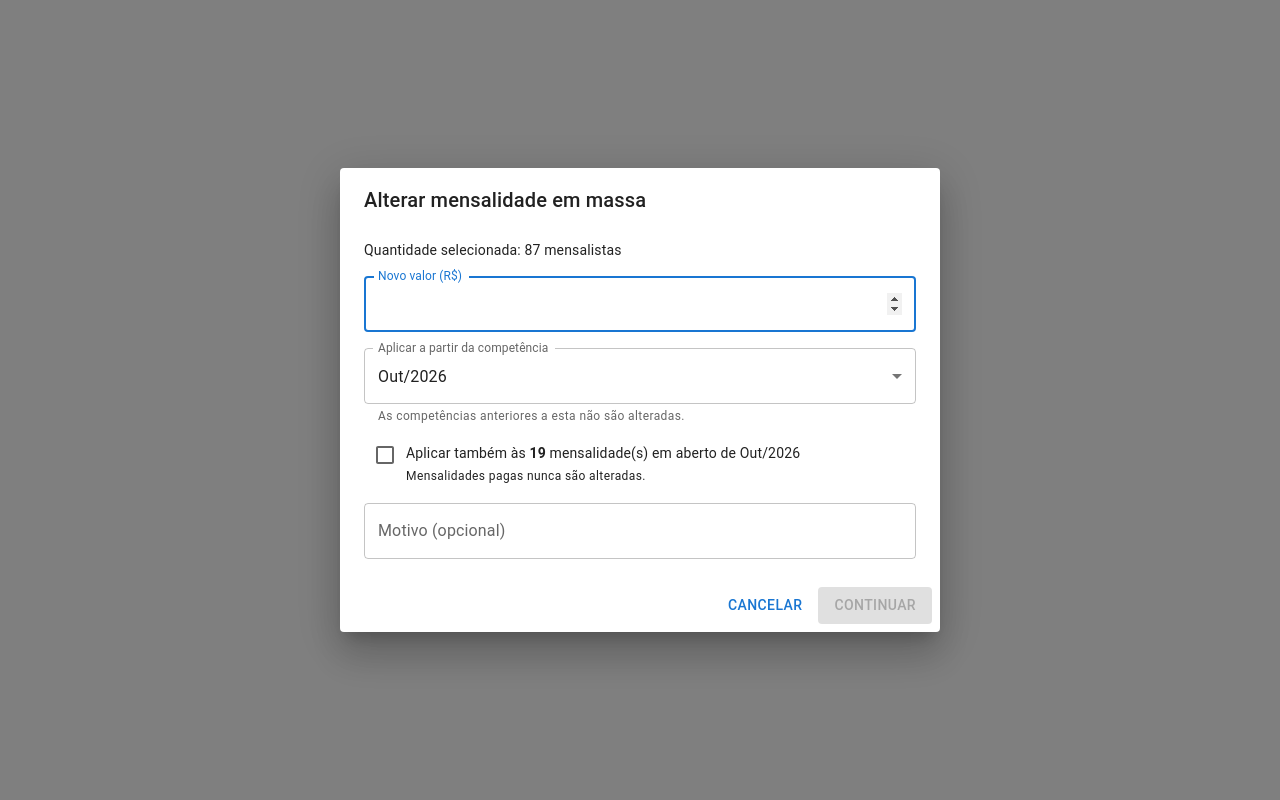
Test: aplicar às mensalidades em aberto › marcada, avisa o que fica de fora e por quê
This screenshot has width=1280, height=800.
Click the checkbox labelled "Aplicar também às". click: [587, 463]
box: [373, 443, 800, 483]
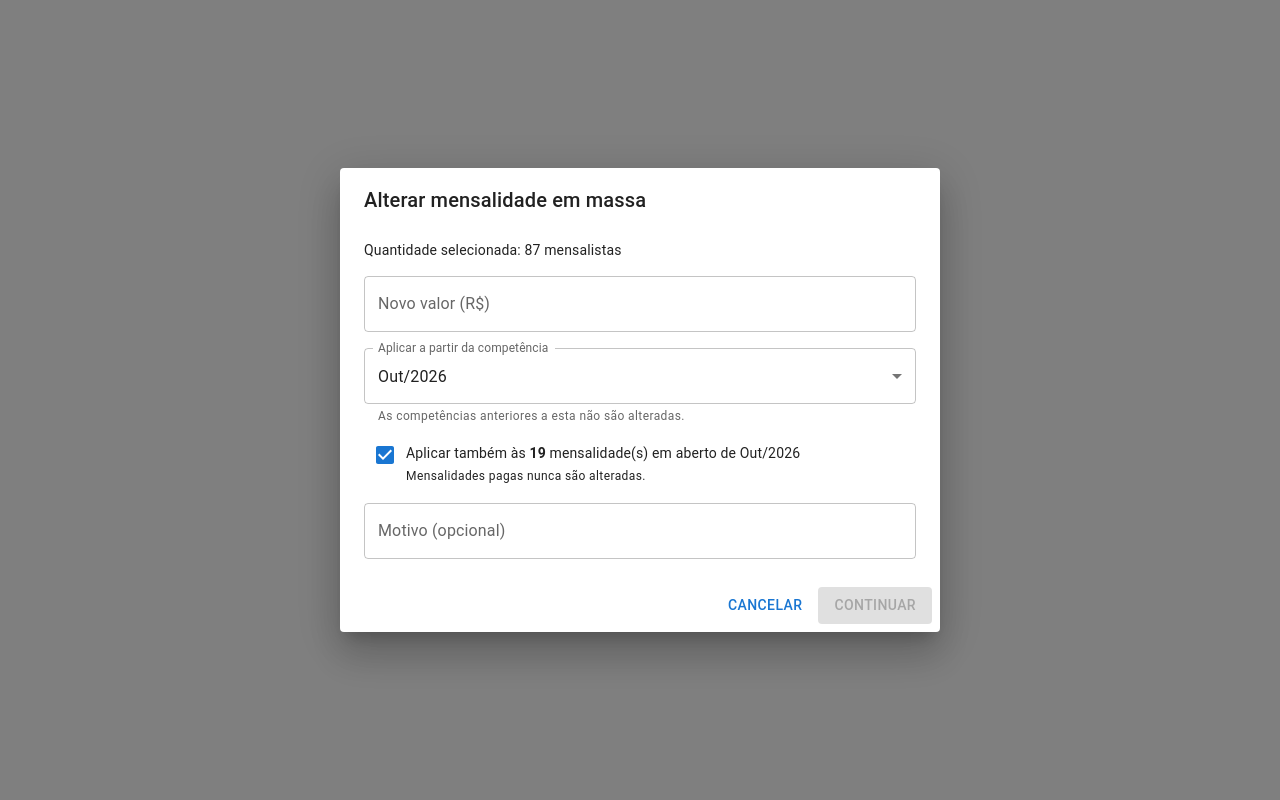
Type "90" into the number field labelled "Novo valor (R$)". click: [640, 304]
box: [364, 276, 916, 332]
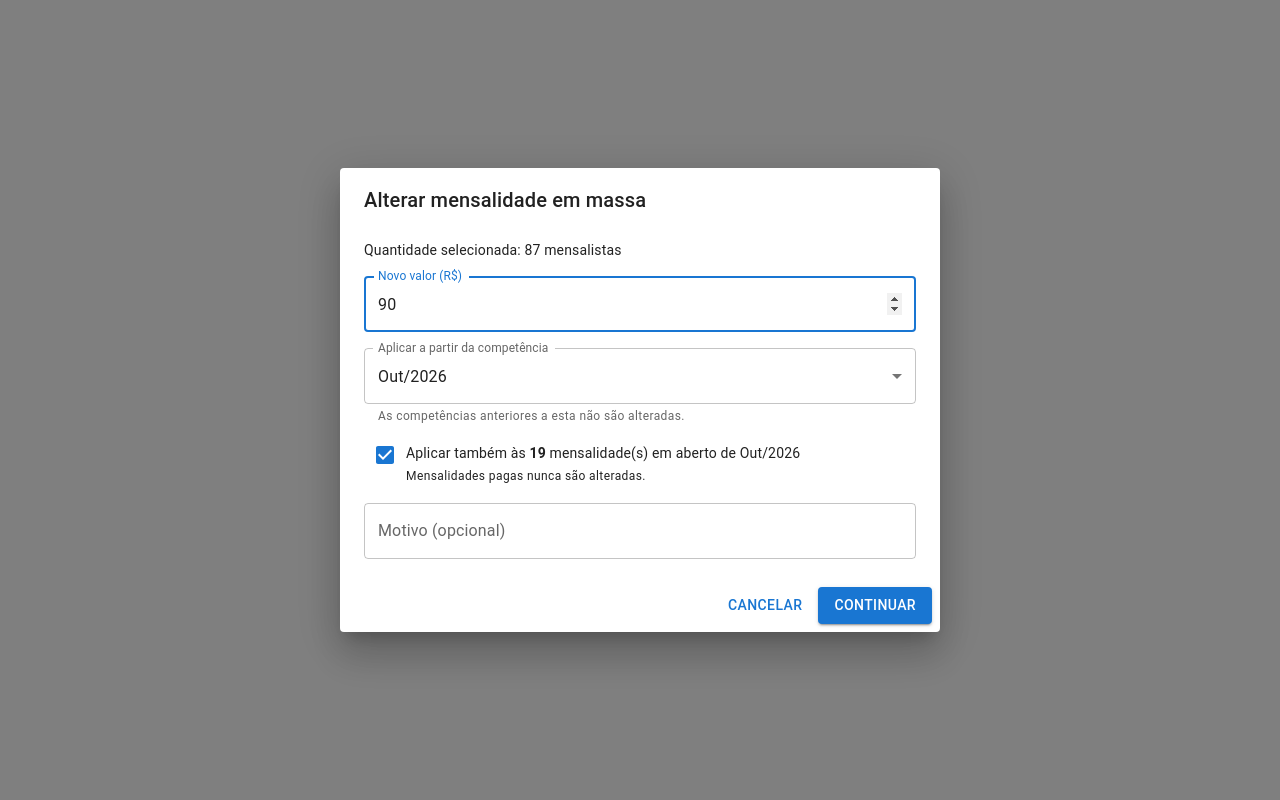
Click the button "Continuar". click: [875, 605]
box: [818, 587, 932, 624]
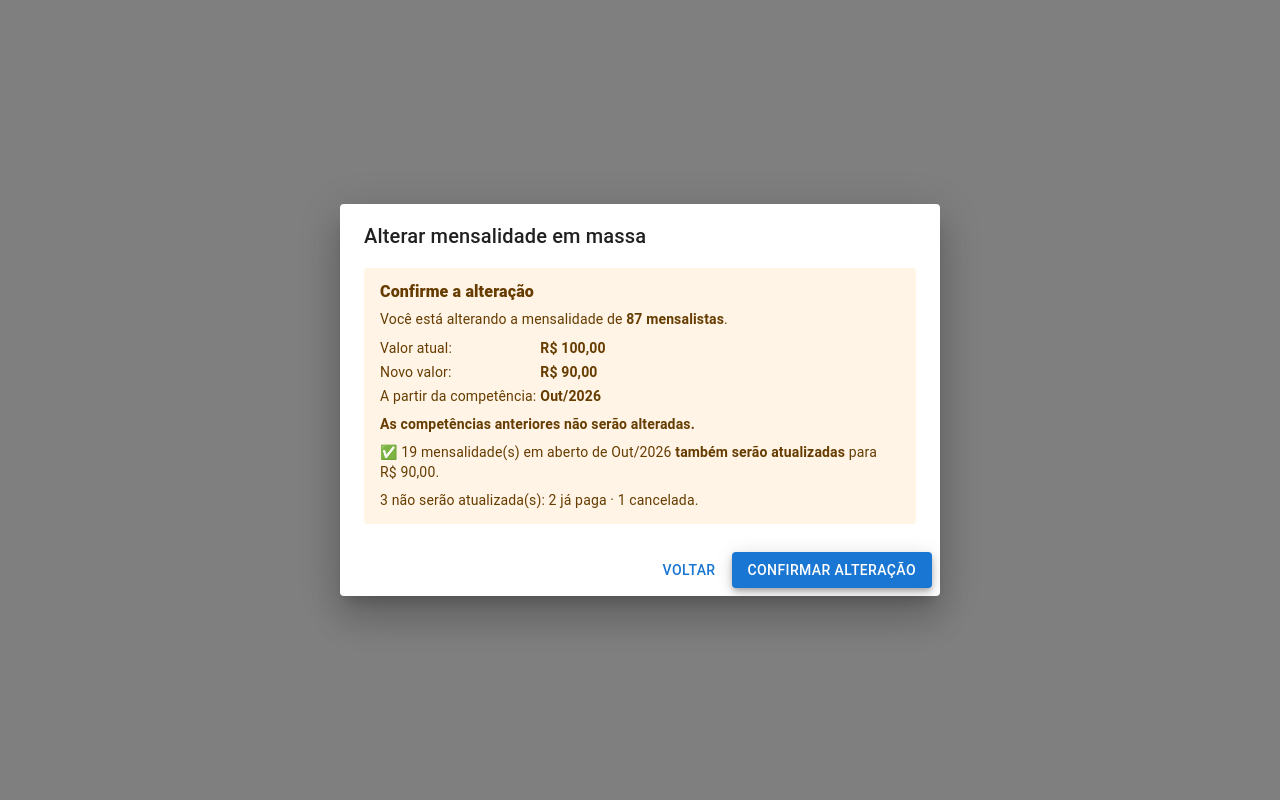
expect the message with test id "fee-change-confirmation" shows "2 já paga · 1 cancelada": met, box [549, 492, 695, 508]
